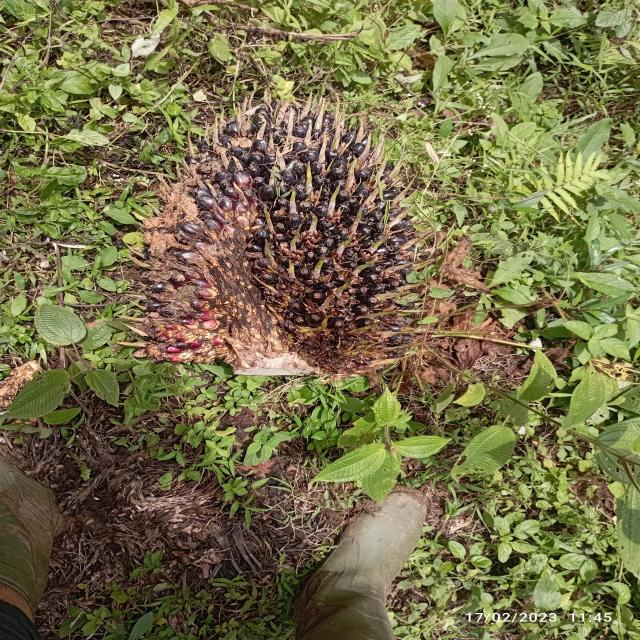fraksi 00: (108, 82, 440, 420)
